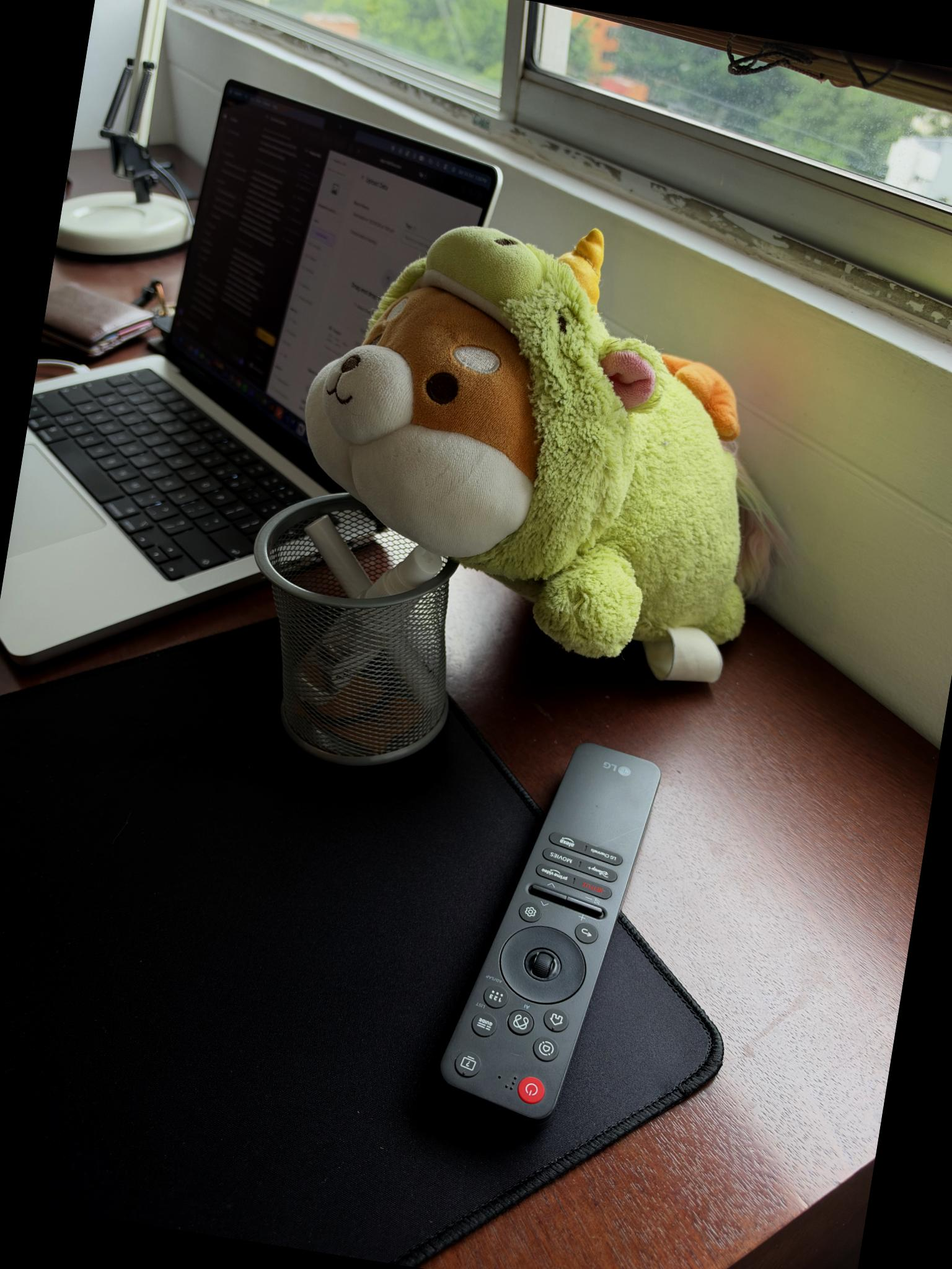peluche_martin: (271, 185, 846, 689)
